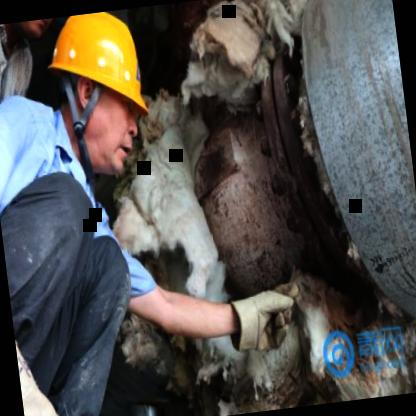helmet: (34, 6, 168, 196)
